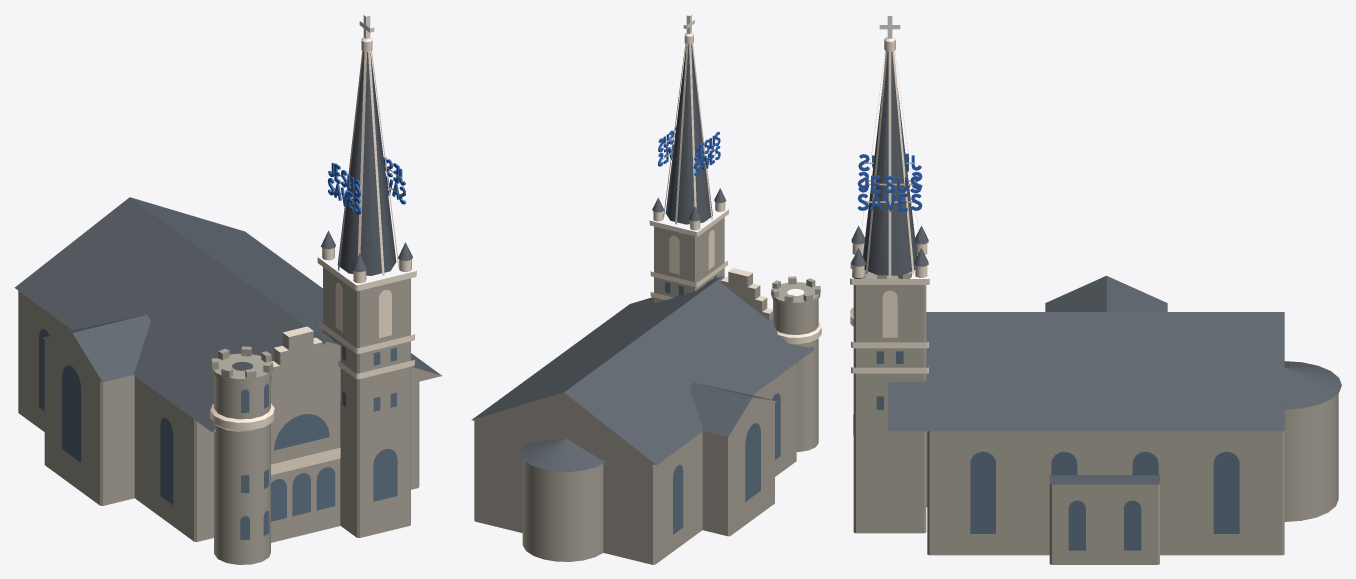
File: atl-big-bethel-ame.glb
The picture shows the model from 3 angles, left to right: view 1: azimuth 30°, elevation 25°; view 2: azimuth 150°, elevation 25°; view 3: azimuth 270°, elevation 25°; orthographic projection. The views are drawn at different scales.
Visible parts, largest first — view 1: Big Bethel AME Church; view 2: Big Bethel AME Church; view 3: Big Bethel AME Church.
Boxes of the visible parts, x1,y1,x2,y2 form: Big Bethel AME Church: (14, 15, 441, 564); Big Bethel AME Church: (471, 15, 821, 564); Big Bethel AME Church: (850, 16, 1341, 564).
Size of the model in its own units: 29.92 by 51.5 by 45.45.
